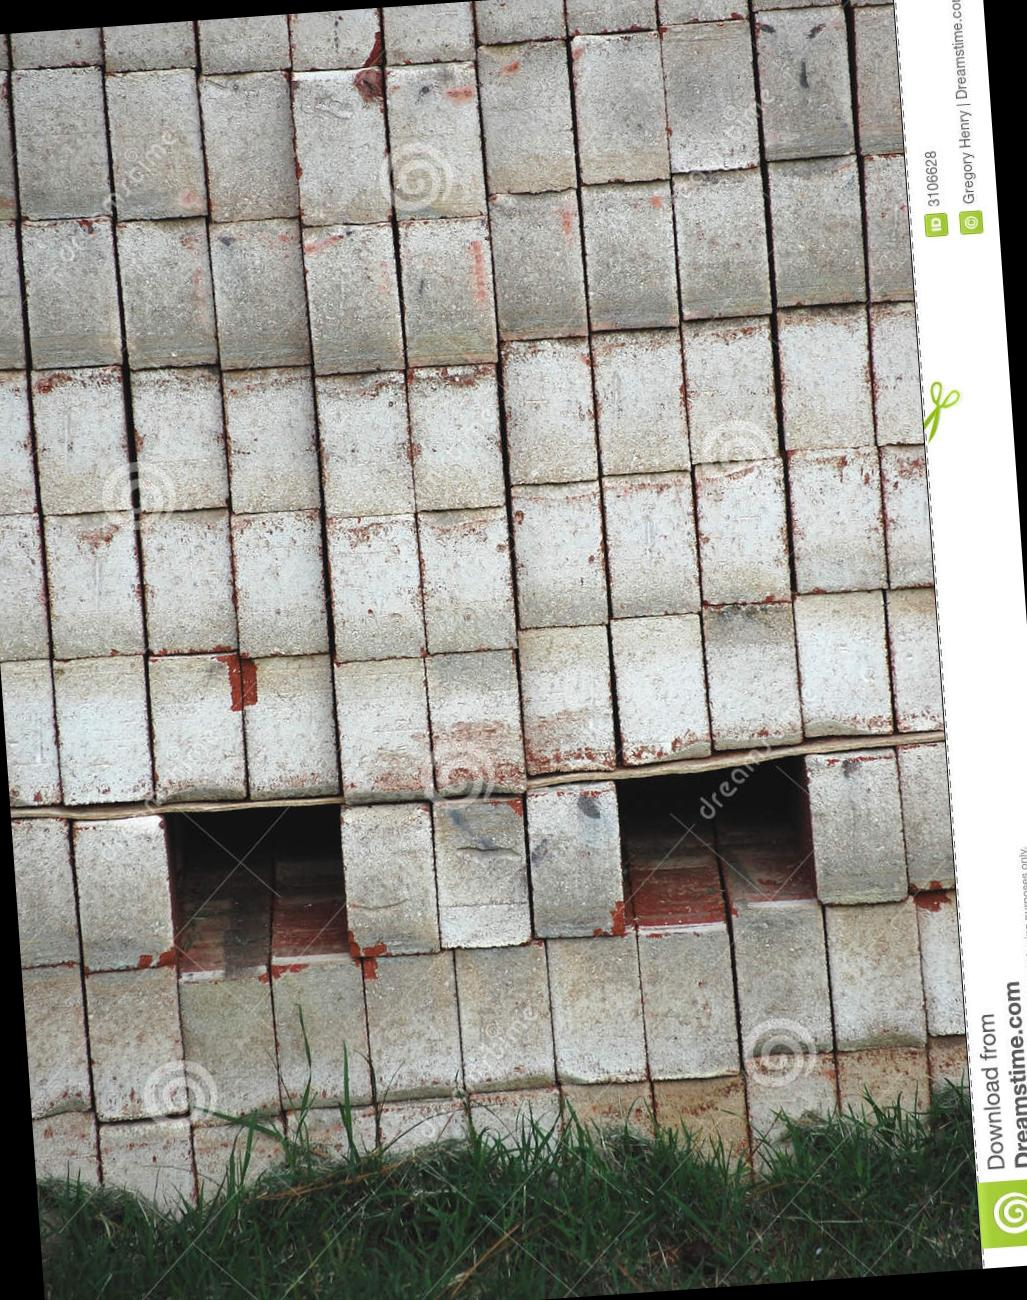brick: (288, 65, 393, 226), (104, 65, 207, 224), (72, 815, 174, 972), (360, 951, 464, 1103), (806, 746, 907, 904), (19, 216, 121, 370), (84, 969, 188, 1121), (754, 5, 855, 160), (384, 61, 483, 219), (824, 898, 927, 1051), (525, 784, 625, 939), (116, 219, 217, 372), (12, 63, 111, 219), (51, 655, 156, 802), (477, 41, 577, 195), (731, 904, 832, 1058), (546, 933, 647, 1085), (209, 217, 309, 370), (454, 943, 555, 1094), (487, 188, 587, 340), (398, 215, 498, 367), (272, 957, 372, 1110), (180, 975, 280, 1128), (304, 223, 403, 375), (148, 651, 247, 803), (660, 19, 758, 172), (518, 624, 616, 777), (611, 614, 710, 765), (44, 510, 145, 658), (433, 797, 531, 949), (201, 70, 298, 223), (340, 803, 437, 956), (418, 506, 518, 654), (130, 364, 228, 515), (672, 169, 772, 318), (510, 481, 609, 630), (571, 31, 668, 183), (638, 928, 741, 1070), (701, 600, 799, 750), (794, 590, 893, 738), (332, 656, 433, 802), (581, 181, 678, 331), (30, 365, 127, 515), (500, 337, 597, 486), (767, 155, 863, 306), (139, 509, 236, 657), (425, 651, 525, 797), (406, 363, 505, 510), (693, 459, 792, 606), (602, 471, 700, 617), (231, 509, 327, 658), (775, 306, 874, 451), (241, 655, 340, 800), (788, 446, 886, 593), (316, 371, 412, 519), (325, 515, 422, 659), (222, 366, 317, 514), (682, 317, 777, 463), (591, 329, 687, 474), (21, 964, 91, 1119), (11, 817, 79, 968), (0, 659, 62, 805), (898, 743, 956, 891), (888, 587, 944, 732), (851, 4, 904, 154), (916, 890, 970, 1036), (868, 302, 923, 445), (880, 442, 933, 589), (861, 155, 911, 301), (0, 513, 47, 659), (0, 368, 37, 515), (0, 219, 27, 370), (0, 69, 14, 219)
